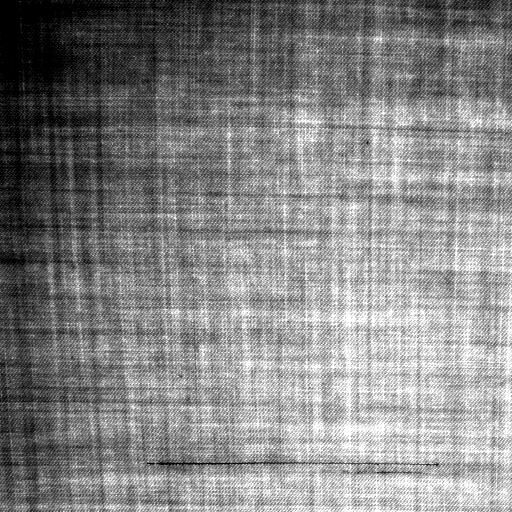fabric_thick_weft: (142, 458, 448, 468), (342, 466, 428, 478)
